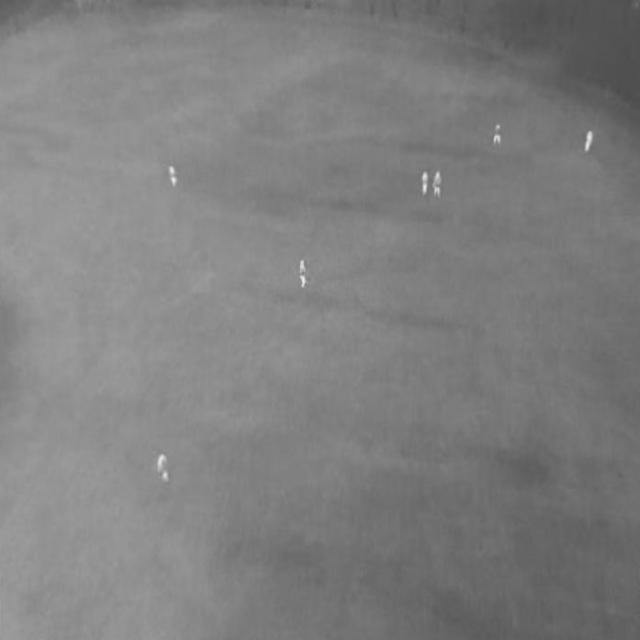person: (157, 453, 170, 486), (432, 171, 441, 200), (299, 260, 307, 290), (169, 165, 178, 188), (493, 122, 501, 147), (421, 172, 428, 198), (584, 131, 592, 153)
